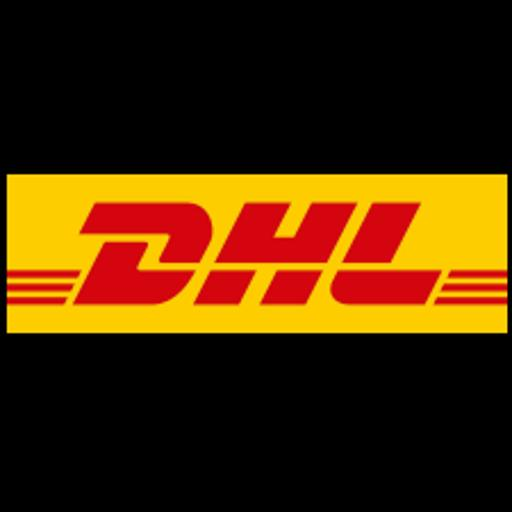DHL: (0, 172, 512, 340)
